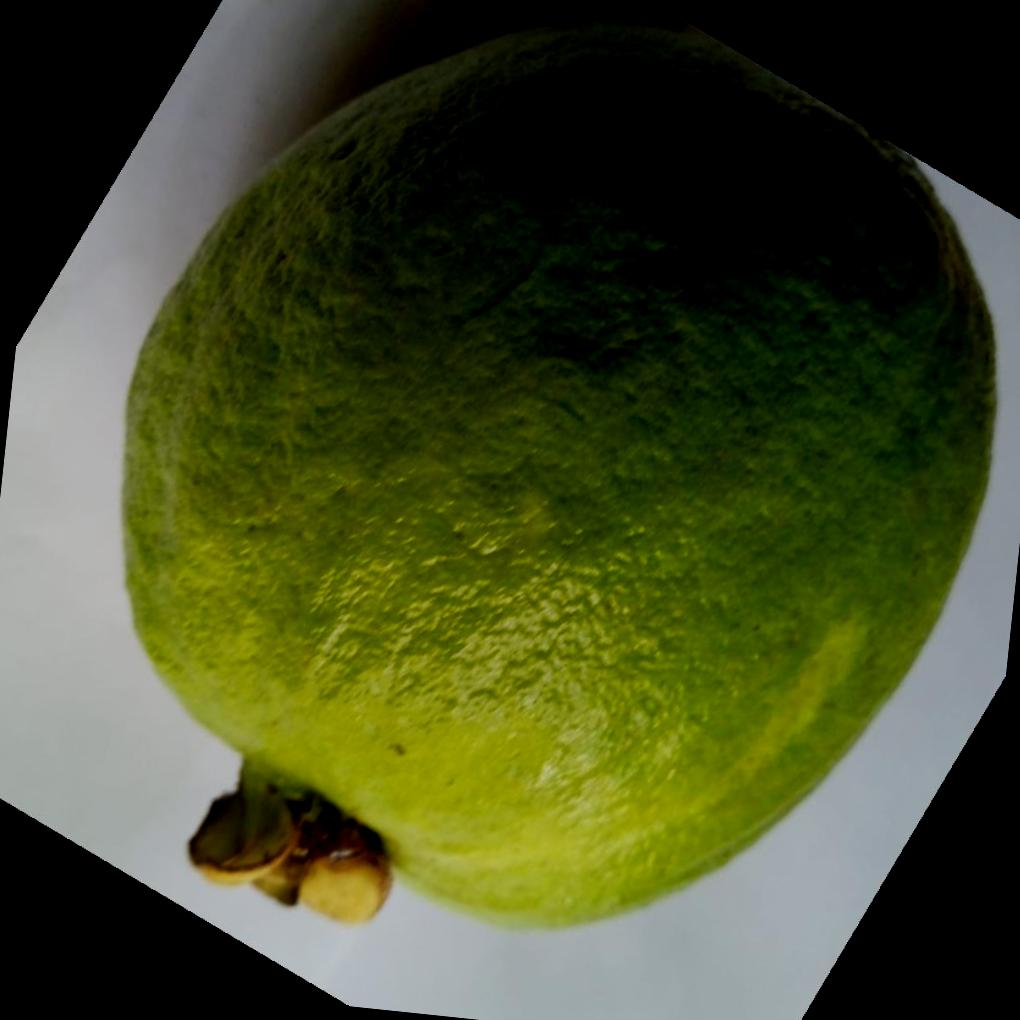FreshGuava: (118, 9, 1005, 931)
